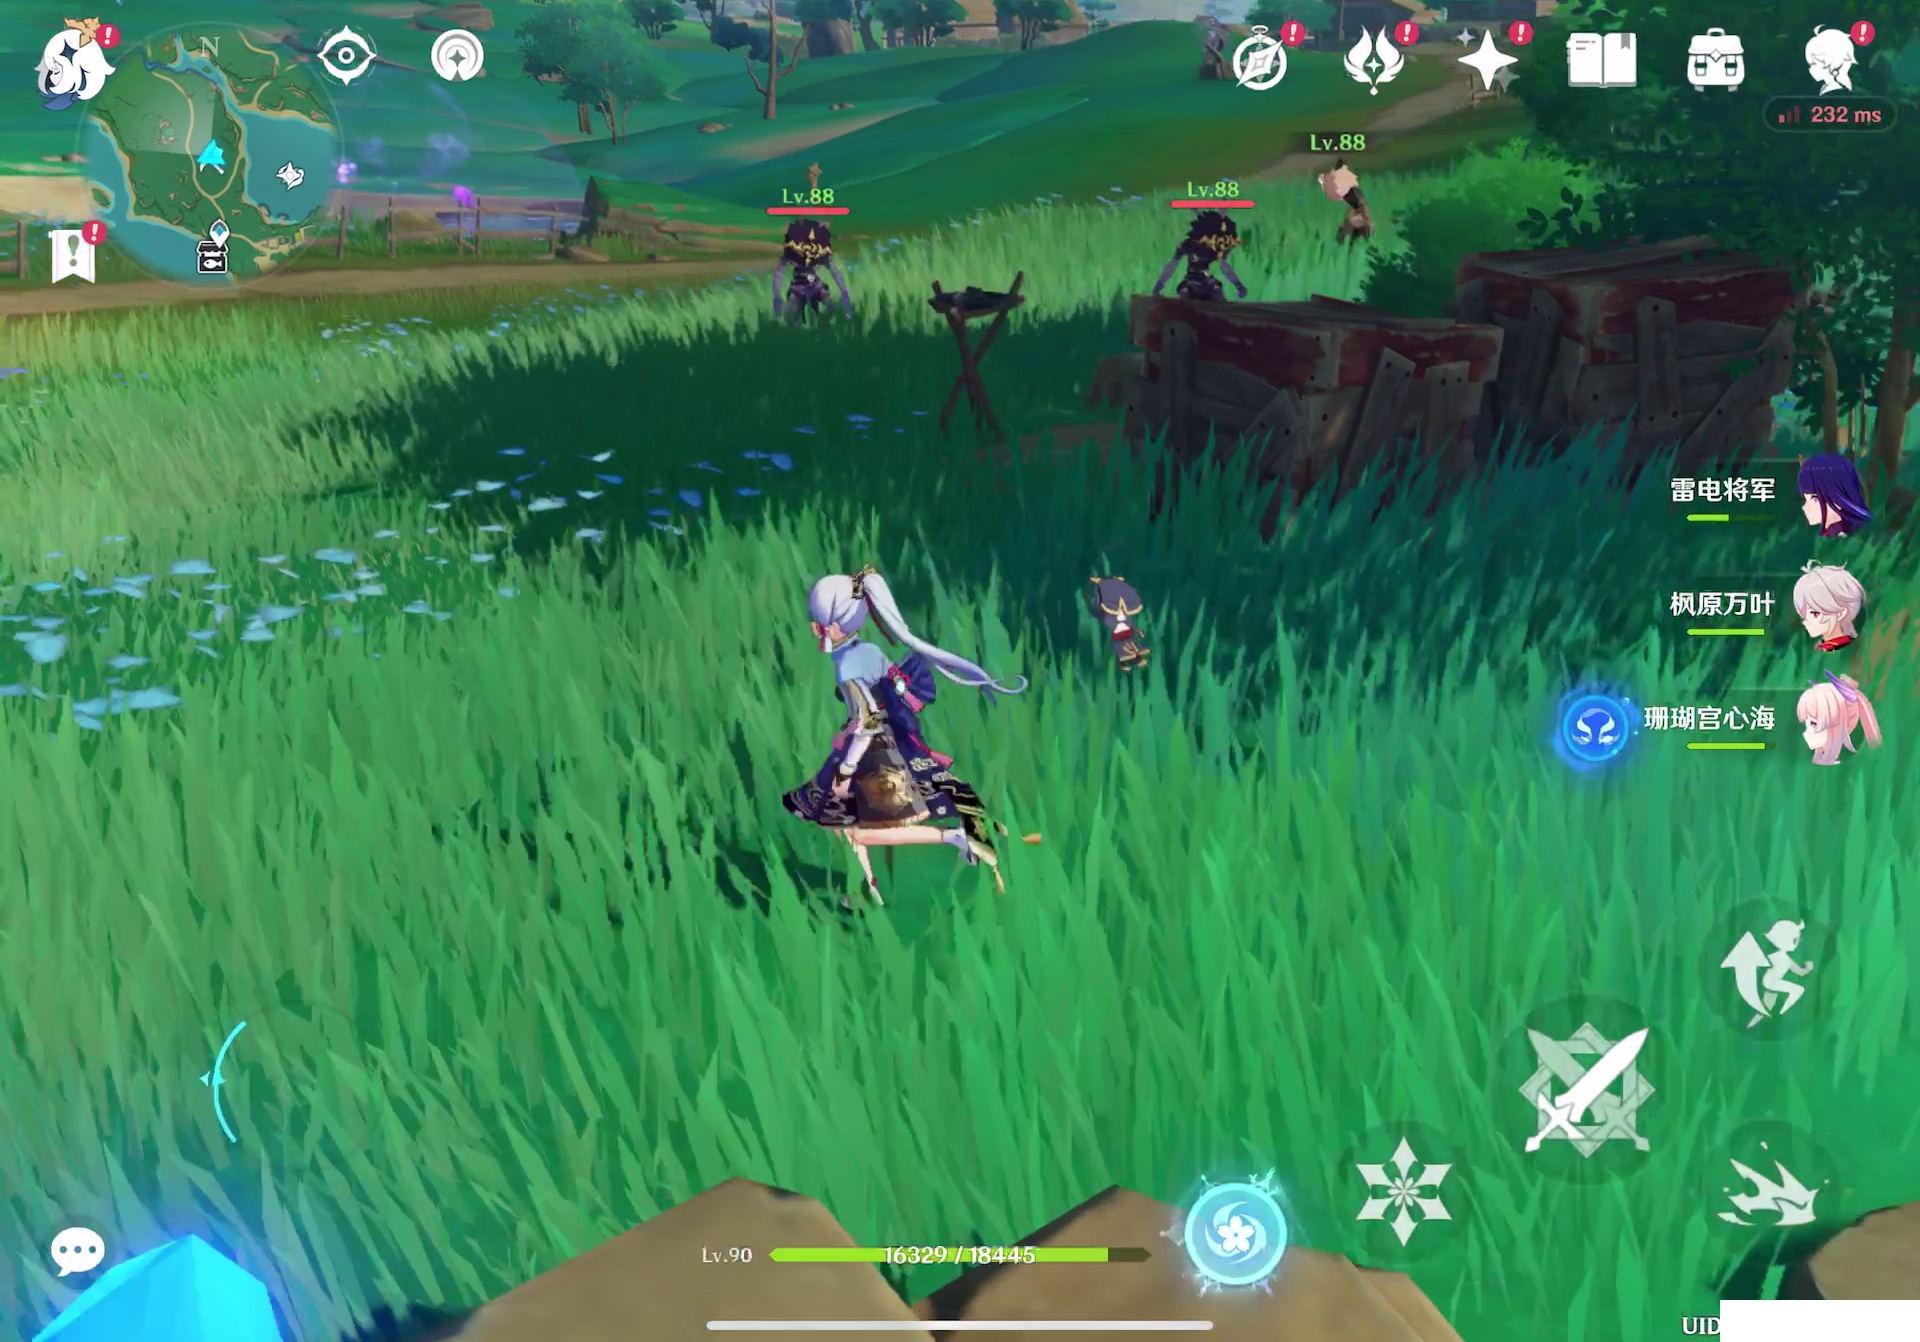丘丘人: (1158, 200, 1253, 300), (1309, 155, 1393, 255), (778, 222, 861, 322)
神里绫龟: (792, 551, 1002, 894)
